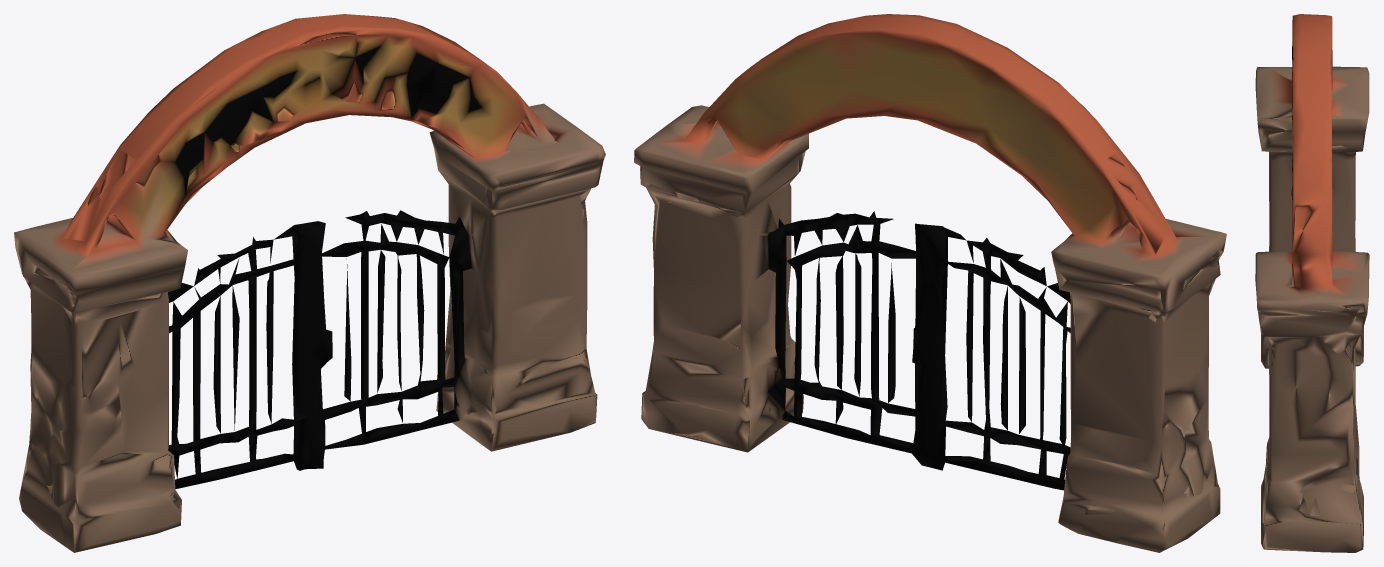
File: gen3d-zoo-gate-lod0.glb
The picture shows the model from 3 angles, left to right: view 1: azimuth 30°, elevation 25°; view 2: azimuth 150°, elevation 25°; view 3: azimuth 270°, elevation 25°; orthographic projection. The views are drawn at different scales.
Visible parts, largest first — view 1: part_0; view 2: part_0; view 3: part_0.
Boxes of the visible parts, x1,y1,x2,y2 form: part_0: [14, 14, 605, 552]; part_0: [634, 14, 1226, 552]; part_0: [1255, 14, 1369, 552].
Bounding box in the file's own units: 1.26 × 0.9999 × 0.2571.
